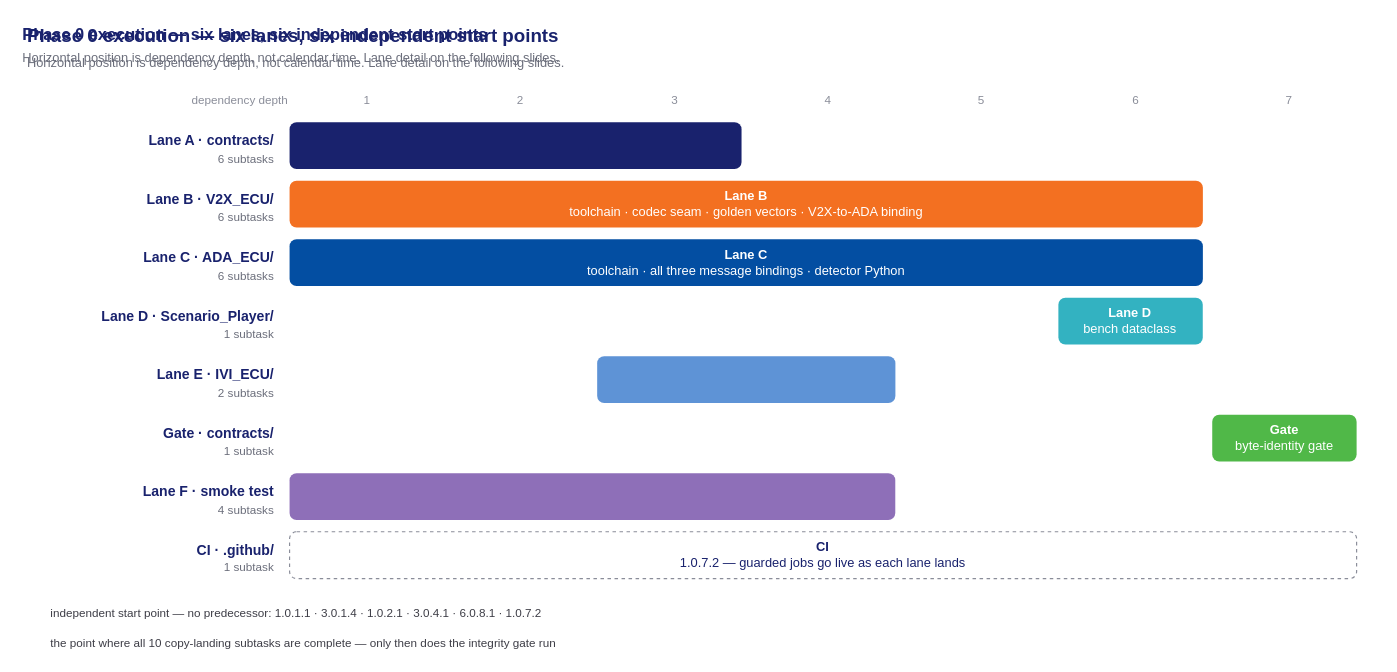
This 1397x672 diagram has some shape labels left out. Each missing label, with the centre of its shape:
Lane A message profile · all four schemas · shared samples: point 515,145
Lane E Kotlin warning sealed binding + additive test: point 746,379
Lane F netcheck tool → push → deploy → read logs: point 592,496
